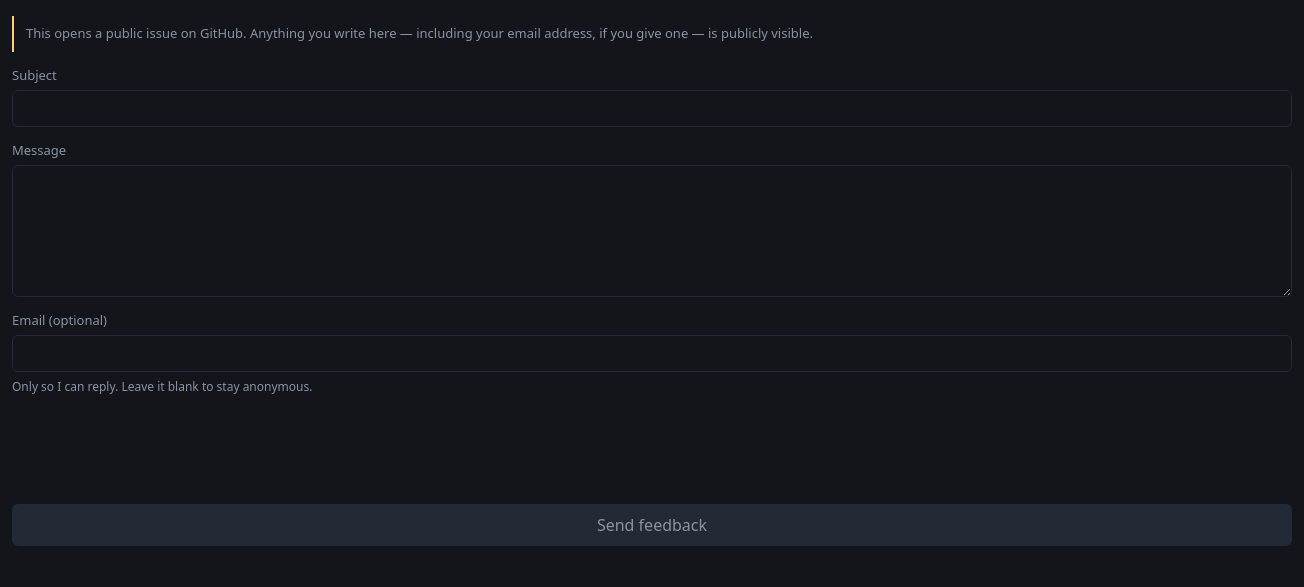
Test: FeedbackForm › surfaces the 429 (rate_limited) message as a single alert
In the field labelled "Subject": (652, 108) [12,90,1292,126], type "Cadence panel is blank"
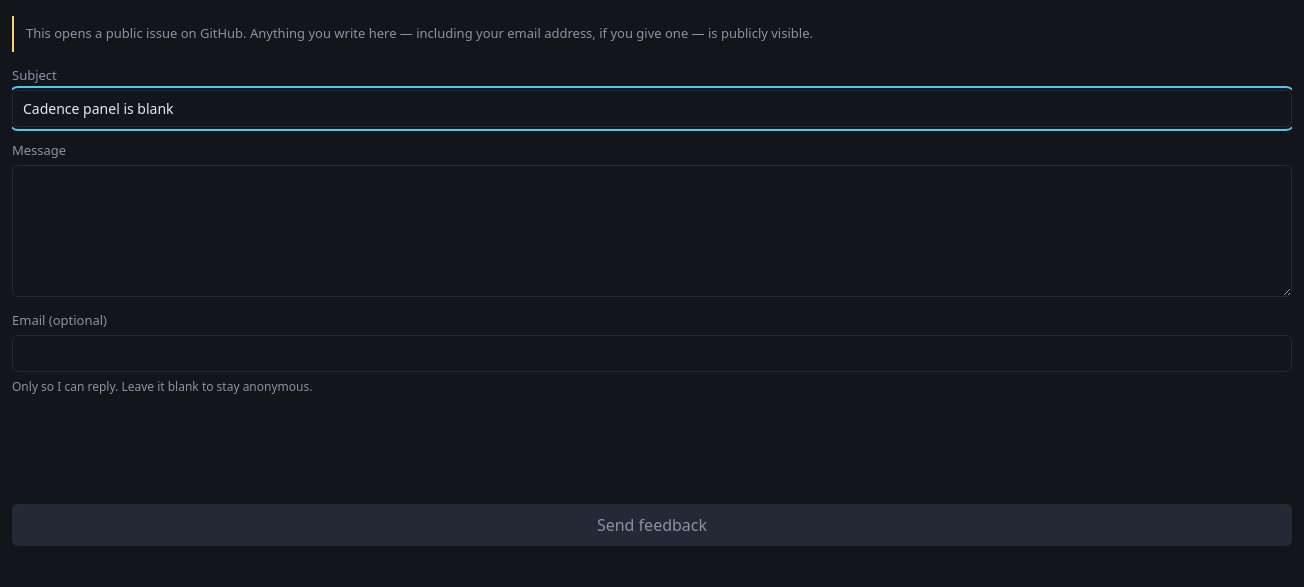
In the text box labelled "Message": (652, 230) [12,164,1292,296], type "The cadence chart renders nothing."
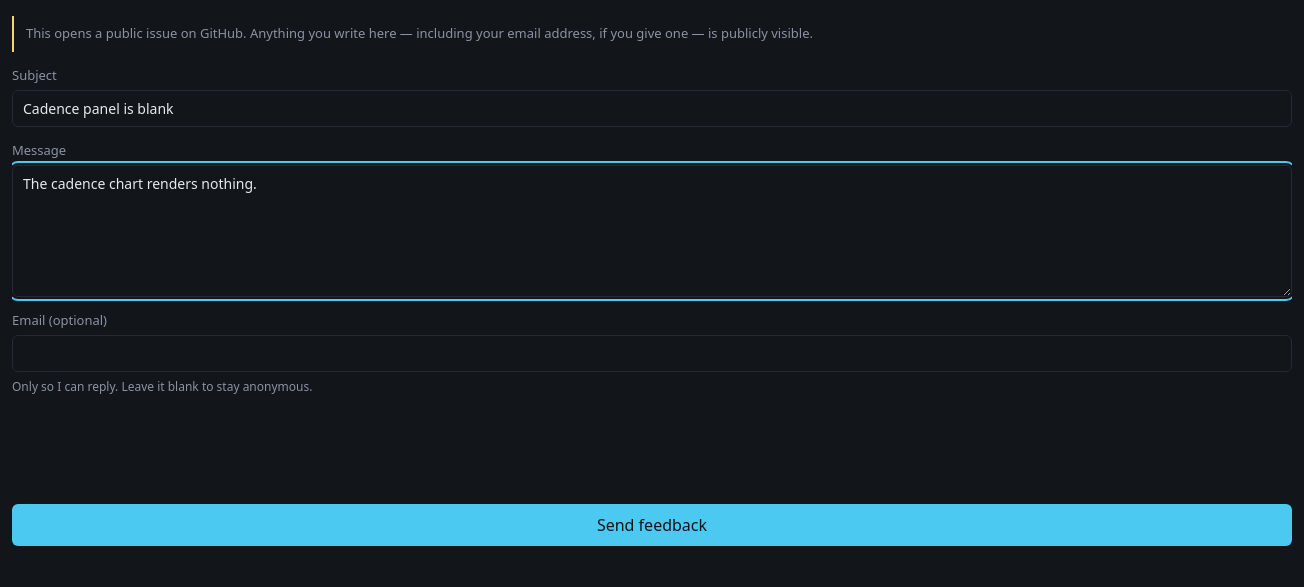
Click the button "Send feedback": click(652, 524) [12,504,1292,546]
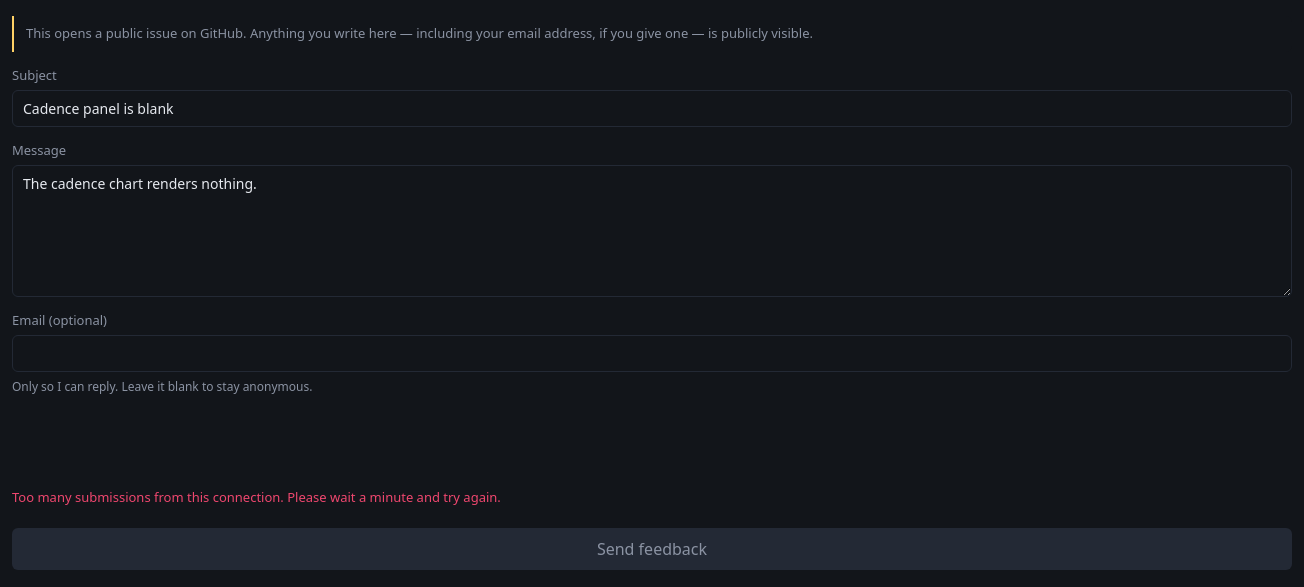
Expected: the message reads "Too many submissions from this connection. Please wait a minute and try again.", [12,488,501,506]
